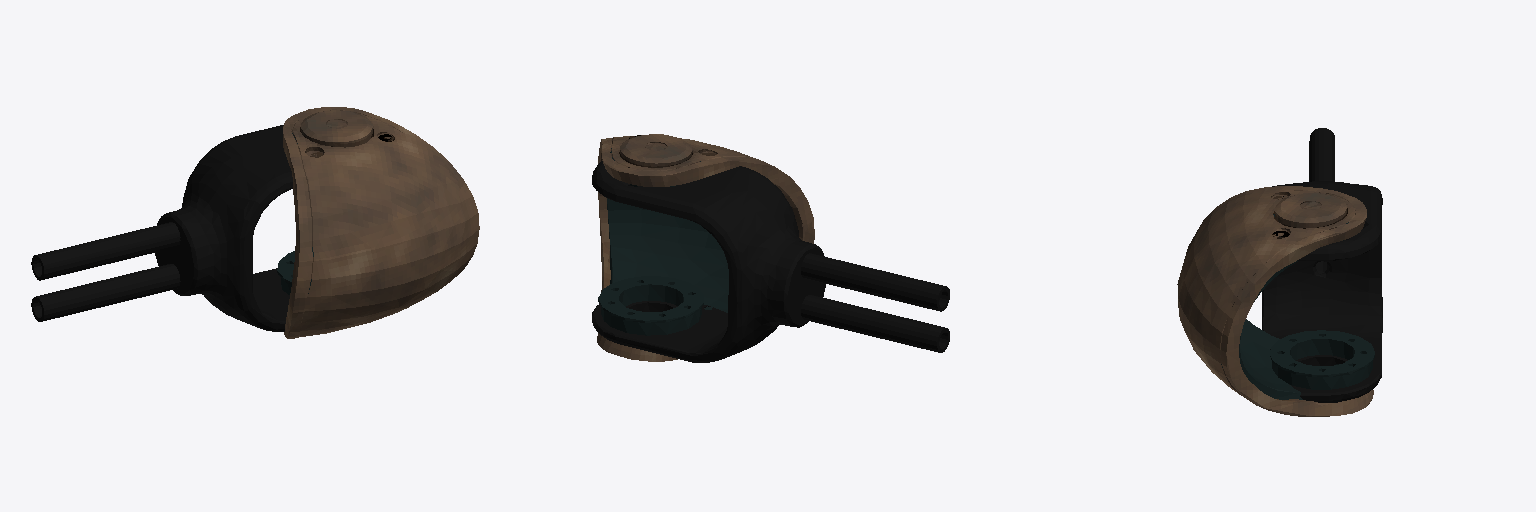
3 views of the same model, side by side, from view 1: azimuth 30°, elevation 25°; view 2: azimuth 150°, elevation 25°; view 3: azimuth 270°, elevation 25° (orthographic).
Visible parts, largest first — view 1: forearm_r; view 2: forearm_r; view 3: forearm_r.
Part boxes in pixels (x1,y1,x2,y2): forearm_r: (31, 107, 479, 338); forearm_r: (592, 134, 949, 362); forearm_r: (1177, 128, 1382, 416).
Bounding box in the file's own units: 0.1591 × 0.0759 × 0.0717.
3 materials, 1 textured.